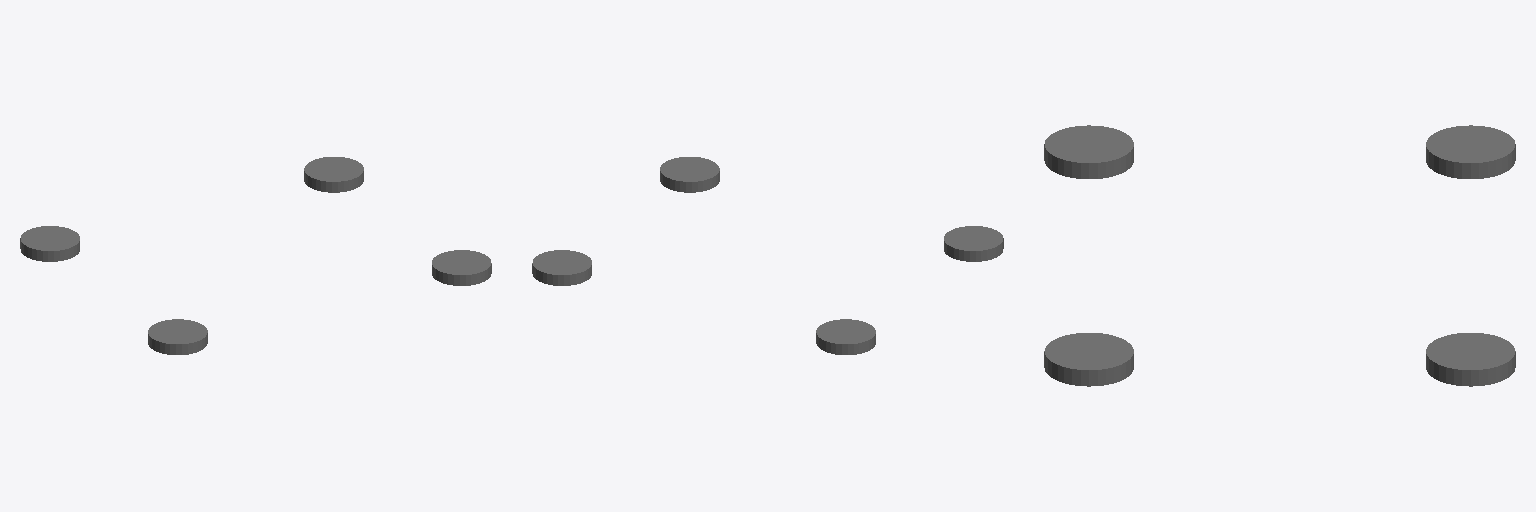
The robot description file, URDF, robot "robot":
<?xml version="1.0"?>
<!--
  整机 URDF：公共体 / 底盘 / 腿，按模块分区。
  两处 <ros2_control> 各自独立，各对应下位机的一帧，id 见块内 <param>。
-->
<robot name="robot">

  <!-- ========== 公共：车体 ========== -->
  <material name="grey">
    <color rgba="0.5 0.5 0.5 1.0"/>
  </material>

  <link name="base_link">
    <inertial>
      <mass value="10.0"/>
      <origin xyz="0 0 0.1" rpy="0 0 0"/>
      <inertia ixx="0.15" ixy="0.0" ixz="0.0" iyy="0.15" iyz="0.0" izz="0.2"/>
    </inertial>
  </link>

  <!-- ========== 底盘 chassis：4 个轮子 ========== -->
  <!-- 轮半径 0.05，轮心距中心 lx=0.27362、ly=0.213（lx+ly=0.48662），
       需与 config/chassis_controller.yaml 的 kinematics 参数保持一致。 -->
  <link name="front_left_wheel">
    <inertial>
      <mass value="0.3"/>
      <origin xyz="0 0 0"/>
      <inertia ixx="0.001" ixy="0" ixz="0" iyy="0.001" iyz="0" izz="0.001"/>
    </inertial>
    <visual>
      <geometry><cylinder radius="0.05" length="0.02"/></geometry>
      <material name="grey"/>
    </visual>
  </link>

  <link name="front_right_wheel">
    <inertial>
      <mass value="0.3"/>
      <origin xyz="0 0 0"/>
      <inertia ixx="0.001" ixy="0" ixz="0" iyy="0.001" iyz="0" izz="0.001"/>
    </inertial>
    <visual>
      <geometry><cylinder radius="0.05" length="0.02"/></geometry>
      <material name="grey"/>
    </visual>
  </link>

  <link name="rear_left_wheel">
    <inertial>
      <mass value="0.3"/>
      <origin xyz="0 0 0"/>
      <inertia ixx="0.001" ixy="0" ixz="0" iyy="0.001" iyz="0" izz="0.001"/>
    </inertial>
    <visual>
      <geometry><cylinder radius="0.05" length="0.02"/></geometry>
      <material name="grey"/>
    </visual>
  </link>

  <link name="rear_right_wheel">
    <inertial>
      <mass value="0.3"/>
      <origin xyz="0 0 0"/>
      <inertia ixx="0.001" ixy="0" ixz="0" iyy="0.001" iyz="0" izz="0.001"/>
    </inertial>
    <visual>
      <geometry><cylinder radius="0.05" length="0.02"/></geometry>
      <material name="grey"/>
    </visual>
  </link>

  <!-- 轮子绕 Y 轴（横向）旋转 -->
  <joint name="front_left_wheel_joint" type="continuous">
    <parent link="base_link"/>
    <child link="front_left_wheel"/>
    <origin xyz="0.27362 0.213 -0.05" rpy="0 0 0"/>
    <axis xyz="0 1 0"/>
  </joint>
  <joint name="front_right_wheel_joint" type="continuous">
    <parent link="base_link"/>
    <child link="front_right_wheel"/>
    <origin xyz="0.27362 -0.213 -0.05" rpy="0 0 0"/>
    <axis xyz="0 1 0"/>
  </joint>
  <joint name="rear_left_wheel_joint" type="continuous">
    <parent link="base_link"/>
    <child link="rear_left_wheel"/>
    <origin xyz="-0.27362 0.213 -0.05" rpy="0 0 0"/>
    <axis xyz="0 1 0"/>
  </joint>
  <joint name="rear_right_wheel_joint" type="continuous">
    <parent link="base_link"/>
    <child link="rear_right_wheel"/>
    <origin xyz="-0.27362 -0.213 -0.05" rpy="0 0 0"/>
    <axis xyz="0 1 0"/>
  </joint>

  <ros2_control name="ChassisSystem" type="system">
    <hardware>
      <plugin>chassis/ChassisSystem</plugin>
    </hardware>

    <joint name="front_left_wheel_joint">
      <command_interface name="velocity"/>
      <state_interface name="velocity"/>
      <state_interface name="position"/>
    </joint>
    <joint name="front_right_wheel_joint">
      <command_interface name="velocity"/>
      <state_interface name="velocity"/>
      <state_interface name="position"/>
    </joint>
    <joint name="rear_left_wheel_joint">
      <command_interface name="velocity"/>
      <state_interface name="velocity"/>
      <state_interface name="position"/>
    </joint>
    <joint name="rear_right_wheel_joint">
      <command_interface name="velocity"/>
      <state_interface name="velocity"/>
      <state_interface name="position"/>
    </joint>
  </ros2_control>

  <!-- ========== 腿 leg：4 条腿 ========== -->
  <link name="front_left_leg"/>
  <link name="front_right_leg"/>
  <link name="rear_left_leg"/>
  <link name="rear_right_leg"/>

  <joint name="front_left_leg_joint" type="fixed">
    <parent link="base_link"/>
    <child link="front_left_leg"/>
  </joint>
  <joint name="front_right_leg_joint" type="fixed">
    <parent link="base_link"/>
    <child link="front_right_leg"/>
  </joint>
  <joint name="rear_left_leg_joint" type="fixed">
    <parent link="base_link"/>
    <child link="rear_left_leg"/>
  </joint>
  <joint name="rear_right_leg_joint" type="fixed">
    <parent link="base_link"/>
    <child link="rear_right_leg"/>
  </joint>

  <ros2_control name="LegSystem" type="system">
    <hardware>
      <plugin>leg/LegSystem</plugin>
    </hardware>

    <joint name="front_left_leg_joint">
      <command_interface name="position"/>
      <state_interface name="position"/>
      <state_interface name="velocity"/>
      <state_interface name="completion"/>
    </joint>
    <joint name="front_right_leg_joint">
      <command_interface name="position"/>
      <state_interface name="position"/>
      <state_interface name="velocity"/>
      <state_interface name="completion"/>
    </joint>
    <joint name="rear_left_leg_joint">
      <command_interface name="position"/>
      <state_interface name="position"/>
      <state_interface name="velocity"/>
      <state_interface name="completion"/>
    </joint>
    <joint name="rear_right_leg_joint">
      <command_interface name="position"/>
      <state_interface name="position"/>
      <state_interface name="velocity"/>
      <state_interface name="completion"/>
    </joint>
  </ros2_control>

  <!-- ========== 地块 Earth Block：1 个电机导轨 + 2 路气泵 ========== -->
  <link name="earth_block_motor_rail"/>
  <joint name="earth_block_motor_rail_joint" type="fixed">
    <parent link="base_link"/>
    <child link="earth_block_motor_rail"/>
  </joint>

  <ros2_control name="EarthBlockSystem" type="system">
    <hardware>
      <plugin>earth_block/EarthBlockSystem</plugin>
    </hardware>

    <!-- URDF 只声明一个电机 joint；两路气泵作为自定义接口挂在这个 joint 上 -->
    <joint name="earth_block_motor_rail_joint">
      <command_interface name="position"/>
      <command_interface name="suction"/>
      <command_interface name="air_rail"/>
      <state_interface name="position"/>
      <state_interface name="velocity"/>
      <state_interface name="suction"/>
      <state_interface name="air_rail"/>
    </joint>
  </ros2_control>

  <ros2_control name="TelecontrolSystem" type="sensor">
    <hardware>
      <plugin>telecontrol/TelecontrolSystem</plugin>
    </hardware>

    <sensor name="rc">
      <state_interface name="right_x"/>
      <state_interface name="right_y"/>
      <state_interface name="left_x"/>
      <state_interface name="left_y"/>
      <state_interface name="s1"/>
      <state_interface name="sa"/>
      <state_interface name="sb"/>
      <state_interface name="sc"/>
      <state_interface name="sd"/>
      <state_interface name="se"/>
      <state_interface name="rssi"/>
      <state_interface name="link_quality"/>
      <state_interface name="snr"/>
      <state_interface name="failsafe"/>
    </sensor>
  </ros2_control>
</robot>

--- Facts derived from the render (not from the file) ---
Views: 3 orthographic renders of the robot side by side, from view 1: azimuth 30°, elevation 25°; view 2: azimuth 150°, elevation 25°; view 3: azimuth 270°, elevation 25°.
Robot: robot — 10 links, 9 joints (4 continuous, 5 fixed); root link base_link; default pose: all joints at 0.
Visible links, largest first — view 1: front_right_wheel, rear_left_wheel, front_left_wheel, rear_right_wheel; view 2: front_left_wheel, rear_right_wheel, front_right_wheel, rear_left_wheel; view 3: front_left_wheel, front_right_wheel, rear_left_wheel, rear_right_wheel.
Link boxes in pixels (box(x1,y1,x2,y2)): front_right_wheel: box(432, 250, 491, 285); rear_left_wheel: box(20, 226, 79, 261); front_left_wheel: box(304, 157, 363, 192); rear_right_wheel: box(148, 319, 207, 354); front_left_wheel: box(532, 250, 591, 285); rear_right_wheel: box(944, 226, 1003, 261); front_right_wheel: box(660, 157, 719, 192); rear_left_wheel: box(816, 319, 875, 354); front_left_wheel: box(1426, 333, 1515, 386); front_right_wheel: box(1044, 333, 1133, 386); rear_left_wheel: box(1426, 125, 1515, 178); rear_right_wheel: box(1044, 125, 1133, 178).
Size in the robot's own frame: 0.6472 by 0.526 by 0.02 metres.
Geometry: primitives only (box / cylinder / sphere), no mesh files.
